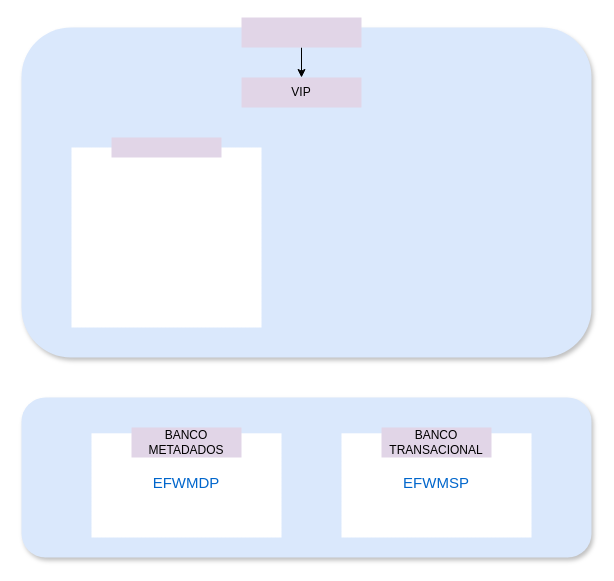
The diagram is 614 pixels wide and 581 high, and some of its shapes have lost their labels. Here are the shapes that lost their labels. From the top down, the centre of each, then its label:
(301,32): LOAD BALANCE F5
(166,147): ARCHITECT
